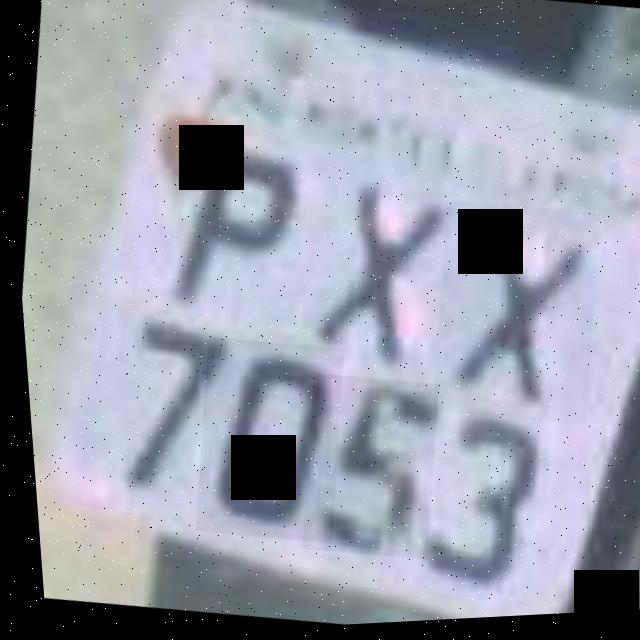0: (176, 333, 350, 552)
3: (377, 396, 562, 614)
5: (284, 371, 443, 569)
7: (74, 298, 240, 516)
P: (119, 101, 326, 344)
X: (414, 199, 608, 437), (270, 160, 461, 386)
